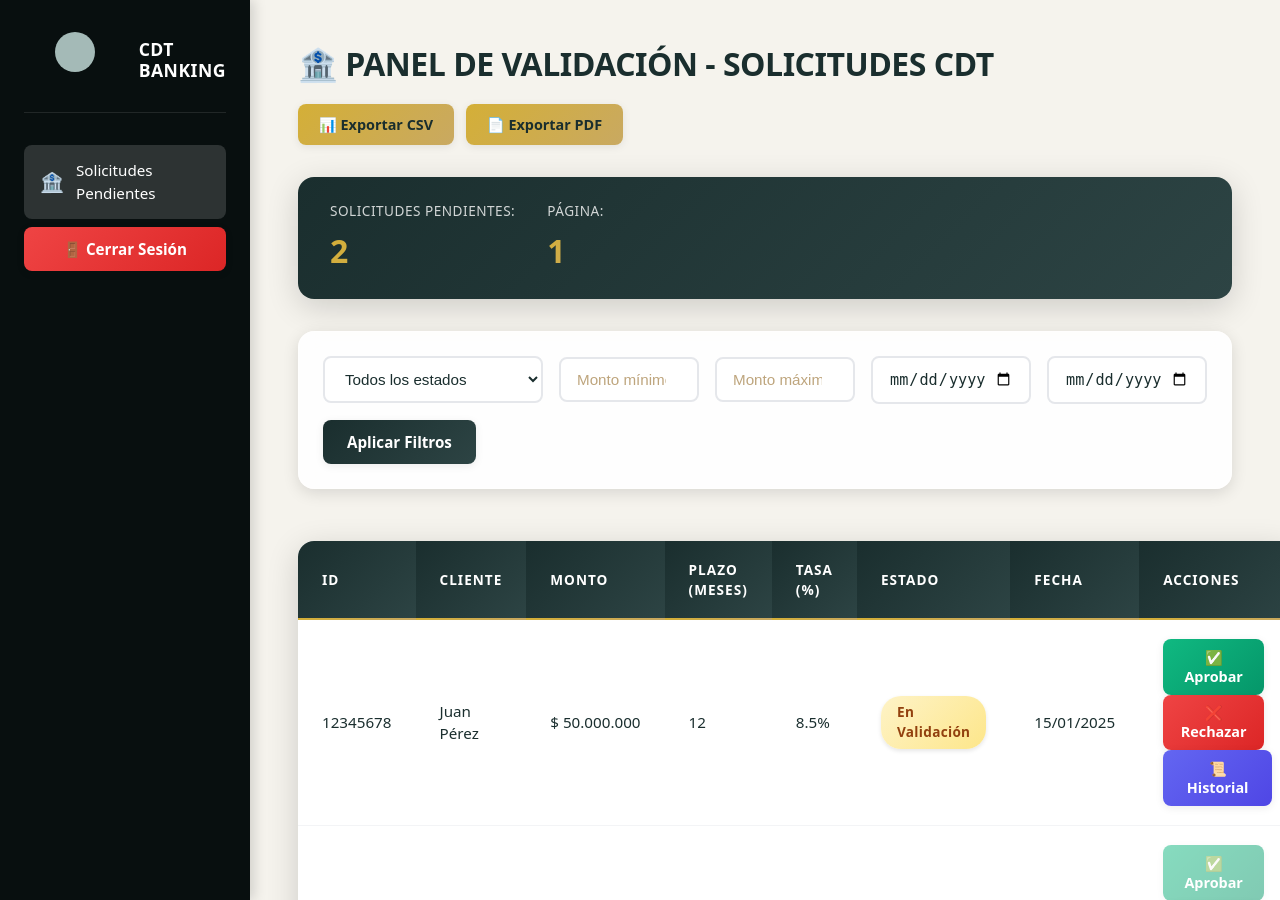
Scenario: AgenteDashboard Component › Aprobar solicitud › Debe abrir el modal de aprobación
Expected: the text "Juan Pérez" is shown, [416, 620, 526, 826]
Click the 1st button "✅ Aprobar" at (1214, 667), box [1163, 639, 1264, 694]
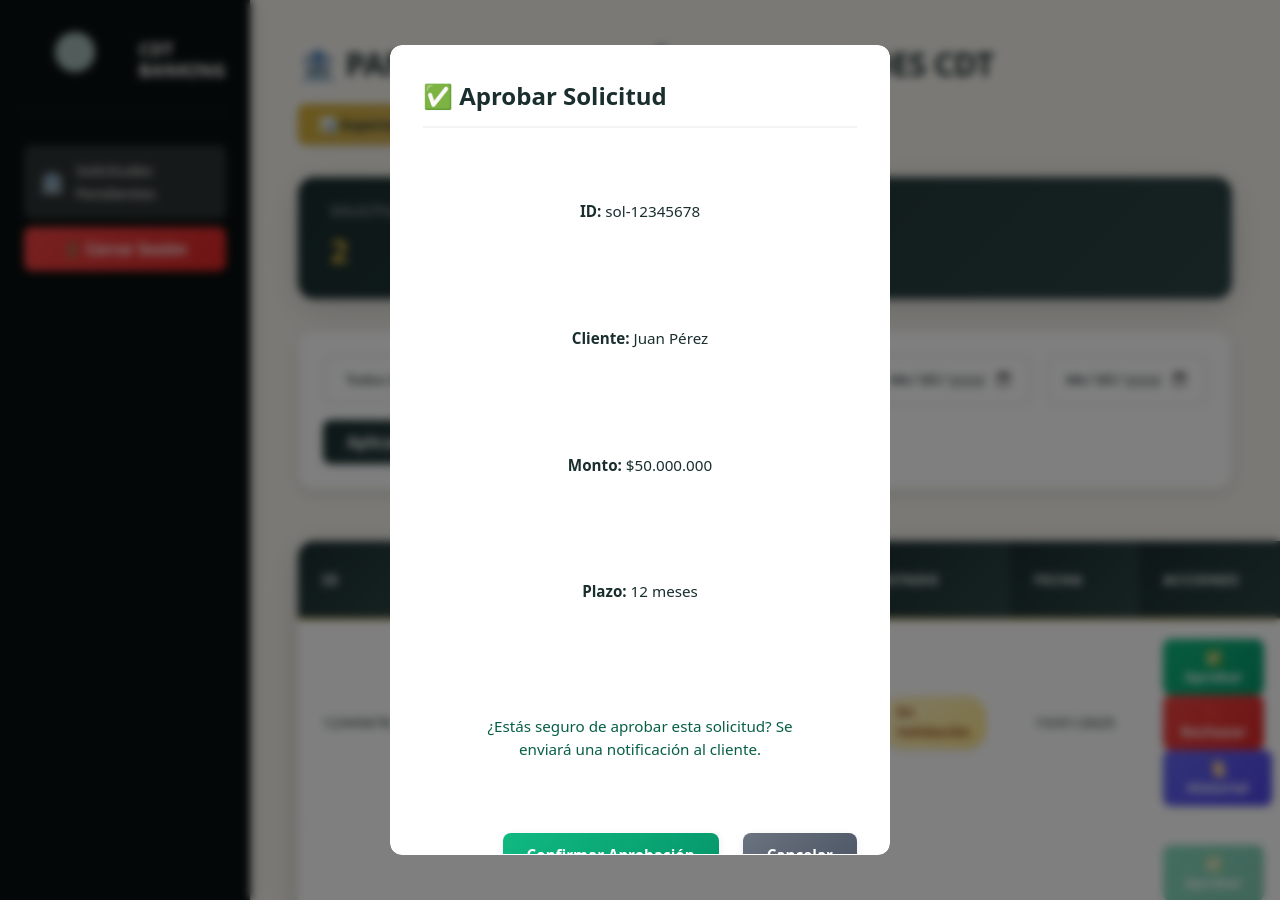
Now the text "¿Estás seguro de aprobar esta solicitud?" is shown, box [487, 716, 792, 759]
